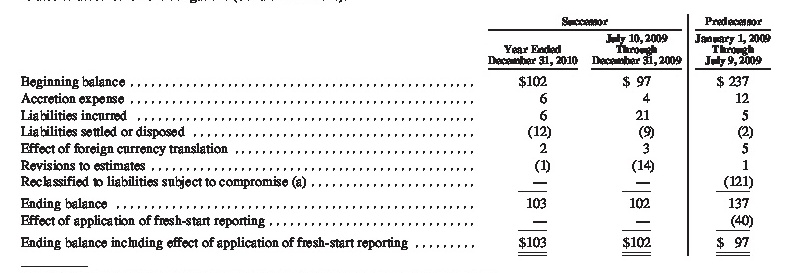table: (0, 0, 787, 273)
